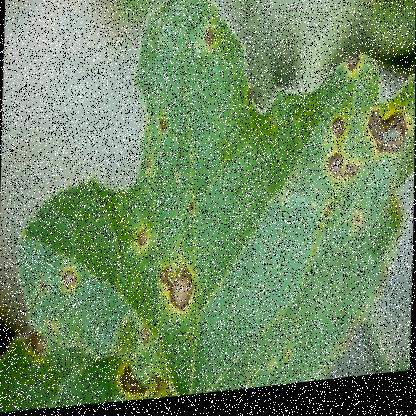AlternariaBrassicicola: (363, 109, 413, 170), (157, 258, 198, 321), (323, 151, 362, 194), (343, 56, 363, 84), (59, 265, 78, 292), (330, 119, 346, 148), (133, 225, 150, 252), (202, 26, 217, 55), (138, 326, 151, 351), (155, 115, 168, 138), (185, 201, 195, 219)
